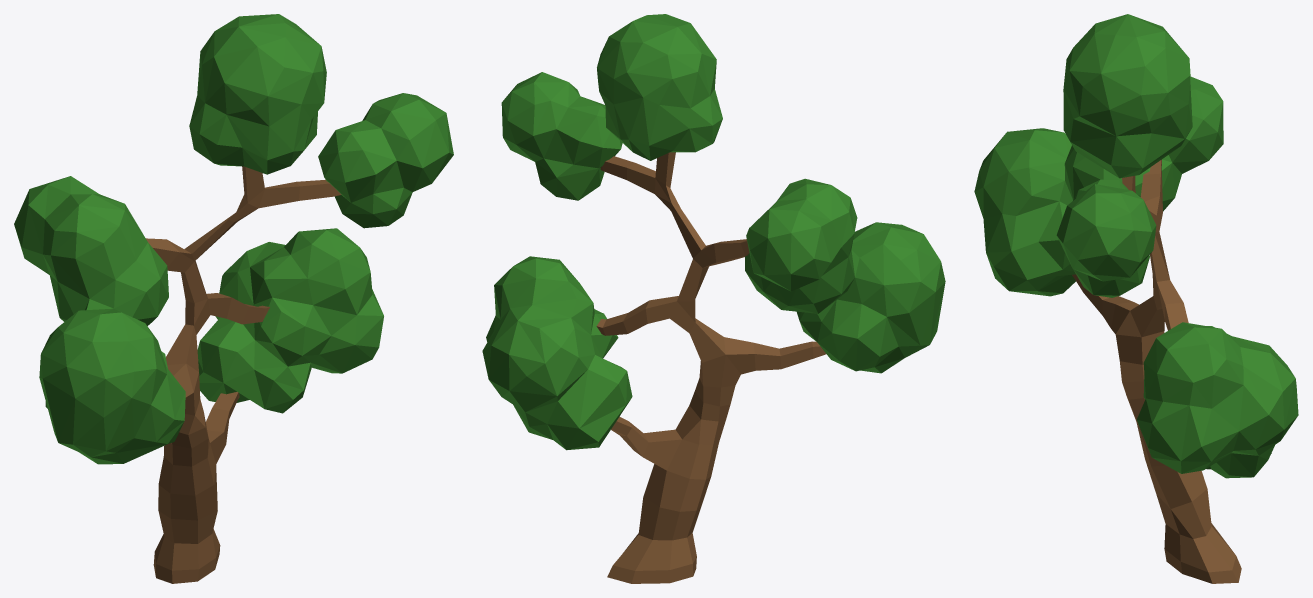
The model's file is tree7.glb.
The picture shows the model from 3 angles, left to right: view 1: azimuth 30°, elevation 25°; view 2: azimuth 150°, elevation 25°; view 3: azimuth 270°, elevation 25°; orthographic projection. The views are drawn at different scales.
Visible parts, largest first — view 1: LowPoly Tree 05; view 2: LowPoly Tree 05; view 3: LowPoly Tree 05.
Part boxes in pixels (<box>): LowPoly Tree 05: <box>14,14,453,583</box>; LowPoly Tree 05: <box>482,14,945,583</box>; LowPoly Tree 05: <box>974,14,1298,583</box>.
Bounding box in the file's own units: 3.35 × 4.11 × 2.16.
